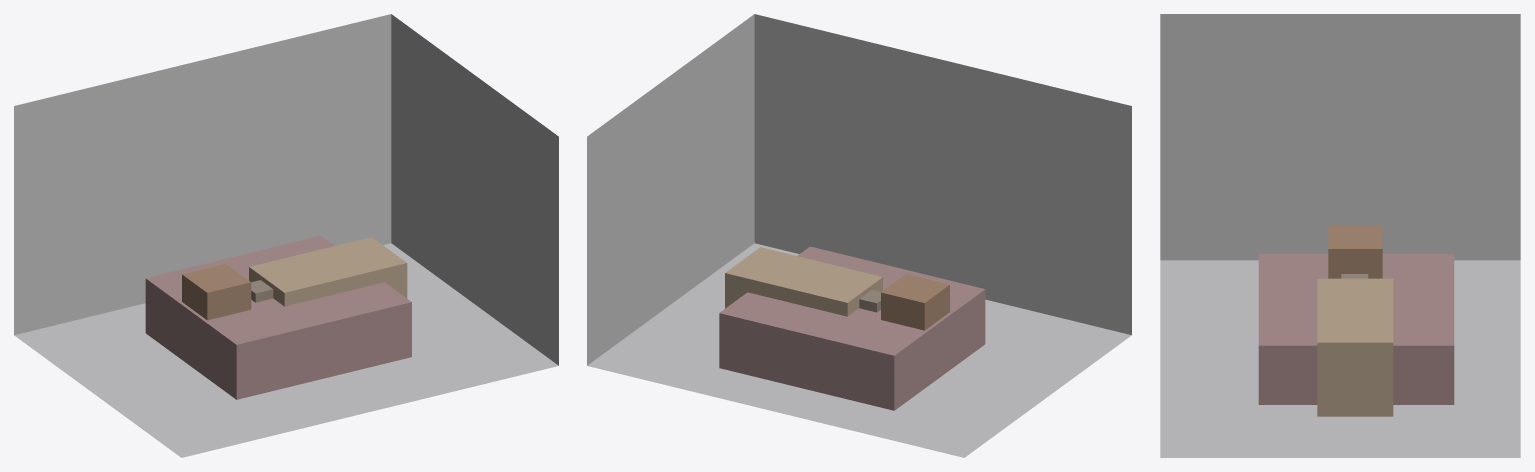
Rendered from current_layout.glb.
3 renders of one model, left to right at view 1: azimuth 30°, elevation 25°; view 2: azimuth 150°, elevation 25°; view 3: azimuth 270°, elevation 25°, orthographic. The views are drawn at different scales.
Parts seen in each view (by area): view 1: room, bed, desk, chair; view 2: room, bed, desk, chair; view 3: room, bed, desk, chair.
Part boxes in pixels (x1,y1,x2,y2): room: [14, 14, 558, 457]; bed: [145, 235, 411, 399]; desk: [249, 237, 407, 306]; chair: [182, 264, 251, 320]; room: [587, 14, 1131, 457]; bed: [719, 246, 985, 410]; desk: [725, 247, 882, 316]; chair: [881, 274, 949, 330]; room: [1160, 14, 1520, 457]; bed: [1258, 254, 1454, 404]; desk: [1317, 278, 1393, 416]; chair: [1328, 226, 1382, 278].
Size of the model in its own units: 4.31 by 2.5 by 3.31.
